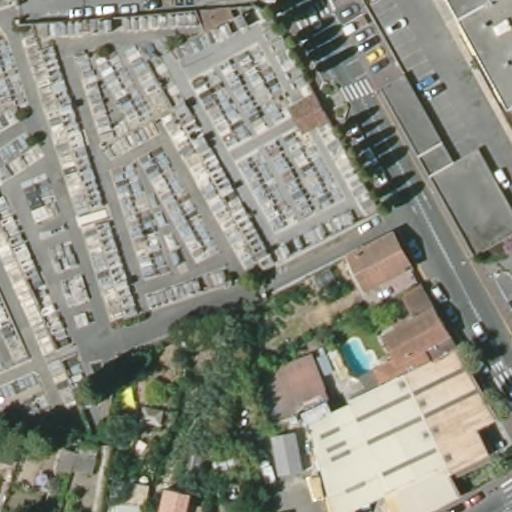pool: (335, 330, 378, 375)
